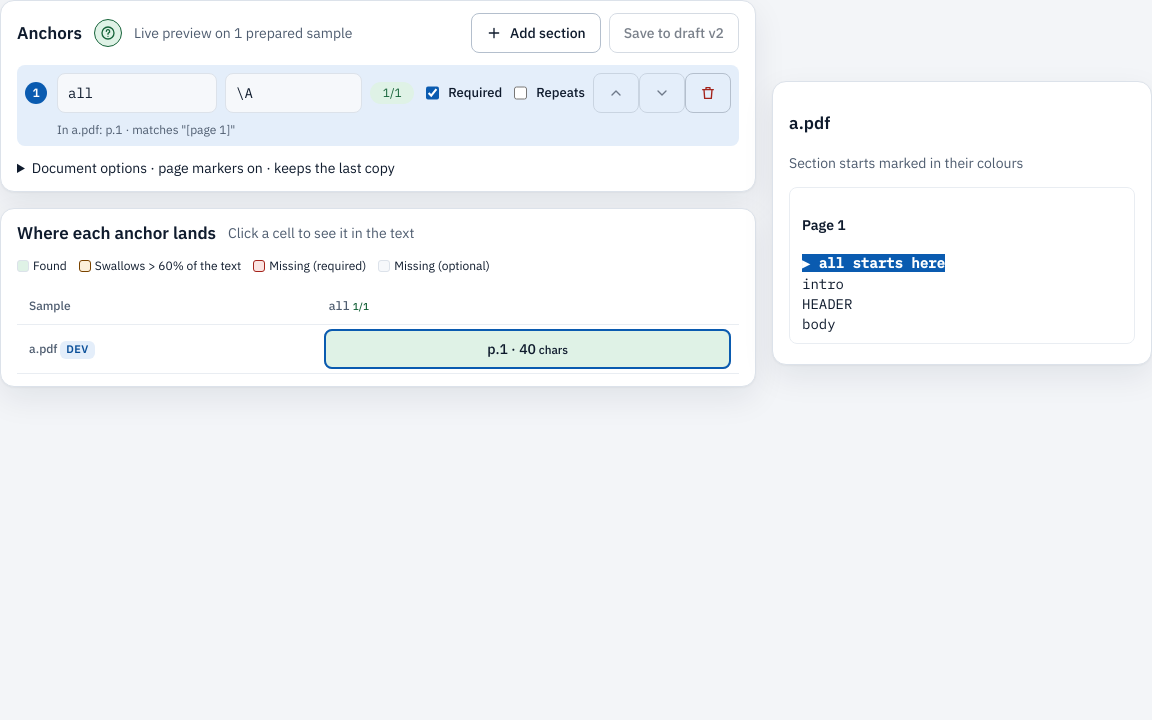
Test: SectionsTab › previews edited anchors and saves them to the draft
The width and height of the screenshot is (1152, 720).
expect the button with aria-label "a.pdf · all" is shown: met, box [324,329,731,369]
Click the button "Add section": [536, 33] box [471,13,601,53]
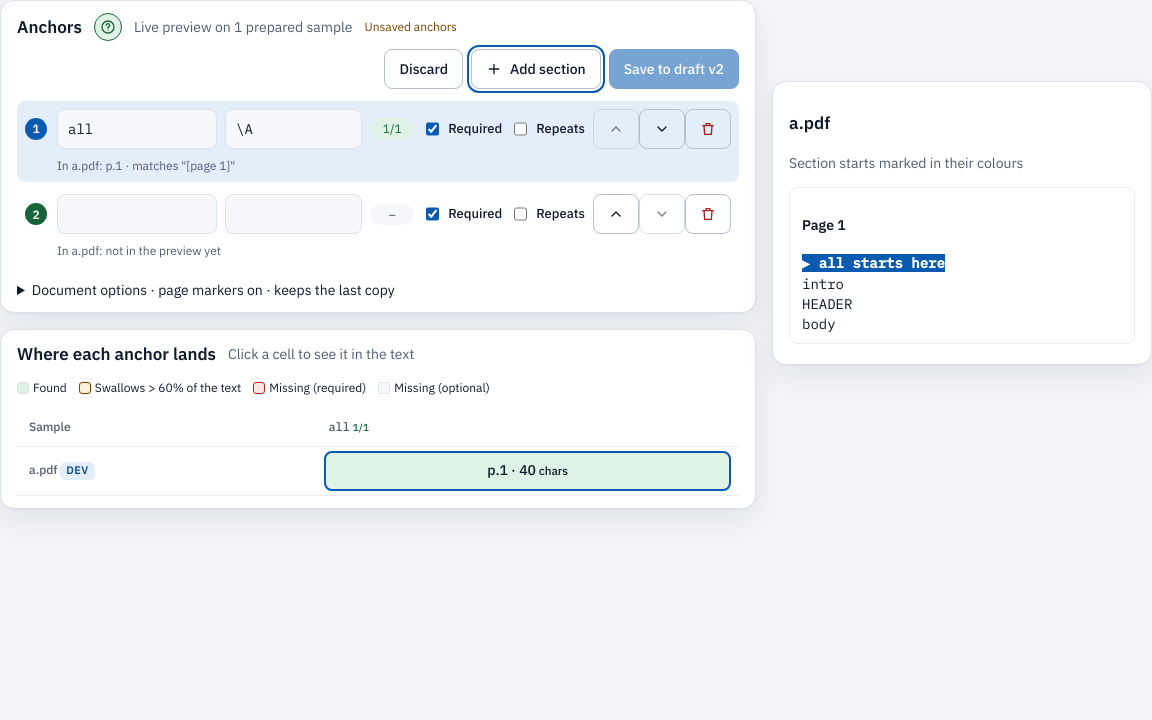
In the field named "Id of section 2": [137, 214] box [57,194,217,234], type "totals"
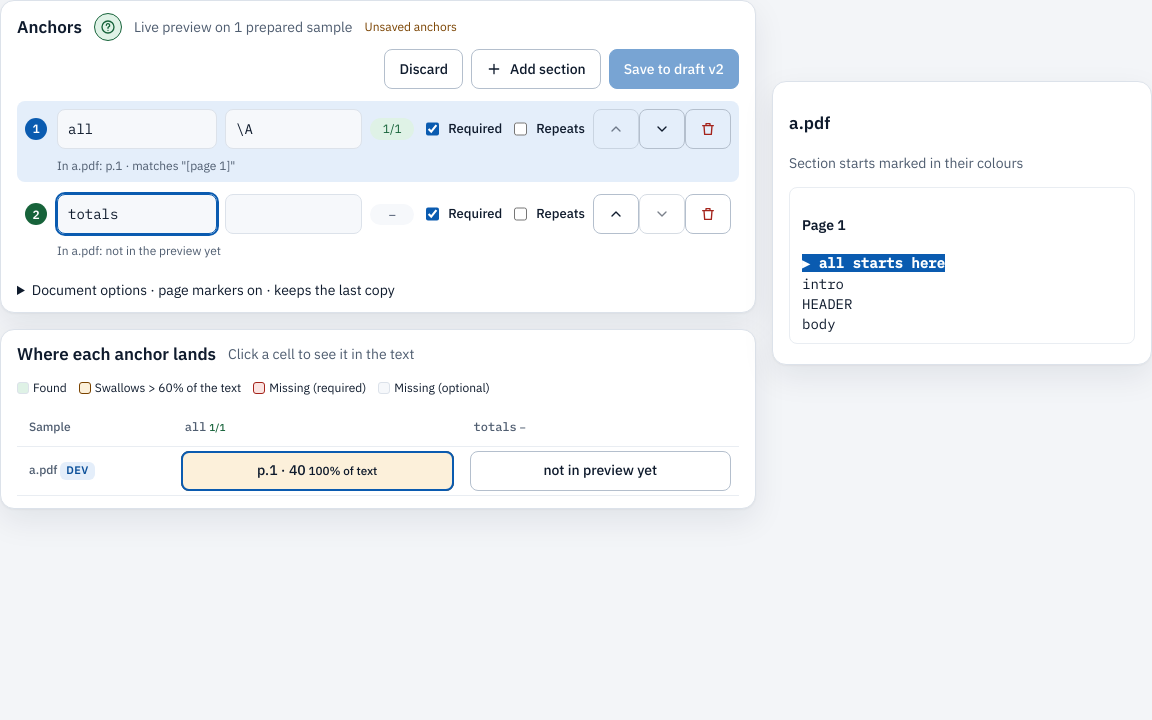
In the field named "Anchor of section 2": [294, 214] box [225,194,362,234], type "^Total"
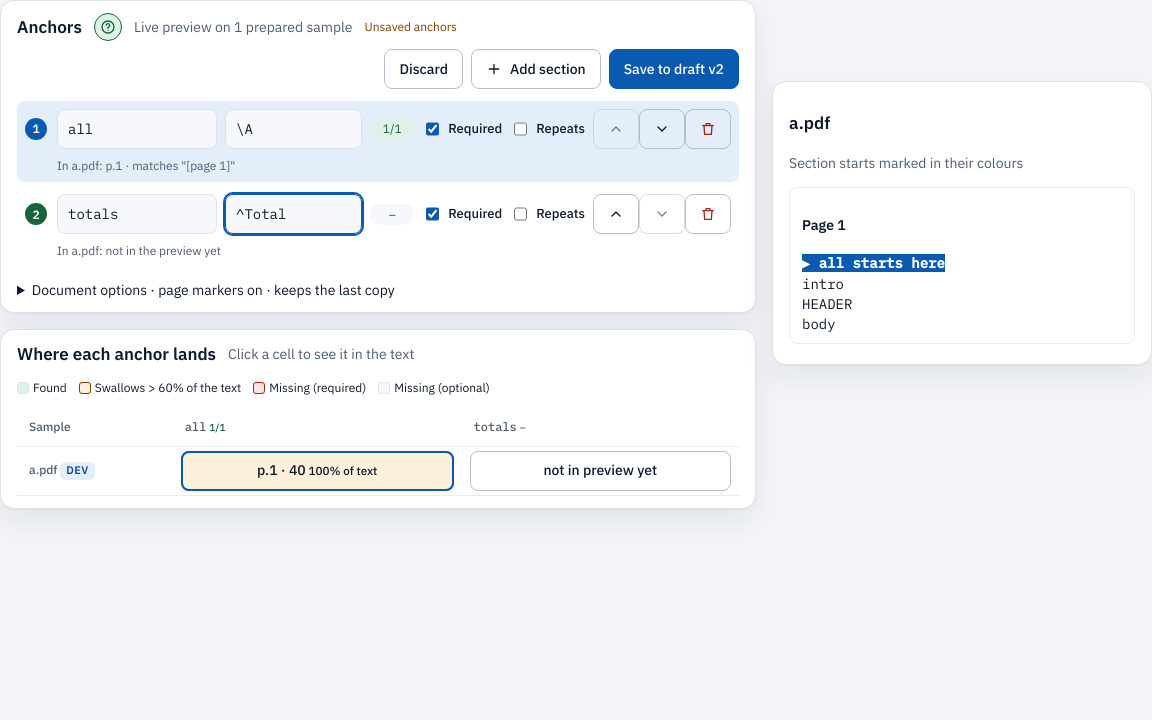
Click the button "Save to draft v2": [674, 69] box [609,49,739,89]
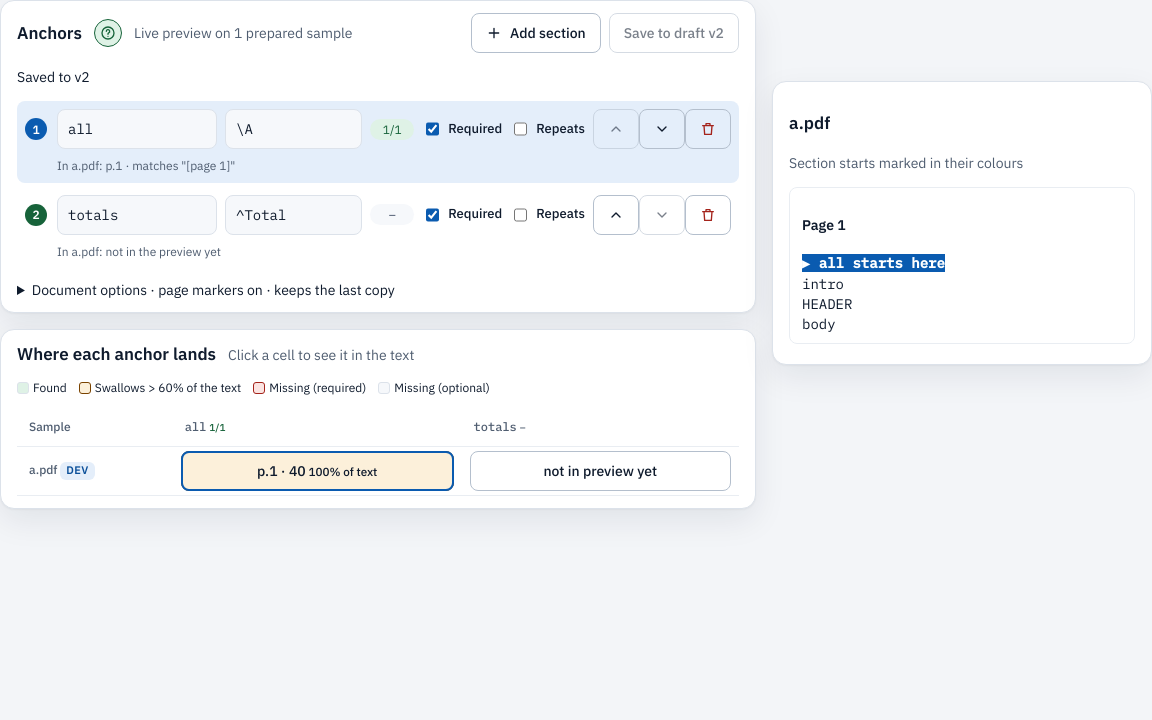
expect the message reads "Saved to v2": met, box [17,68,90,86]
